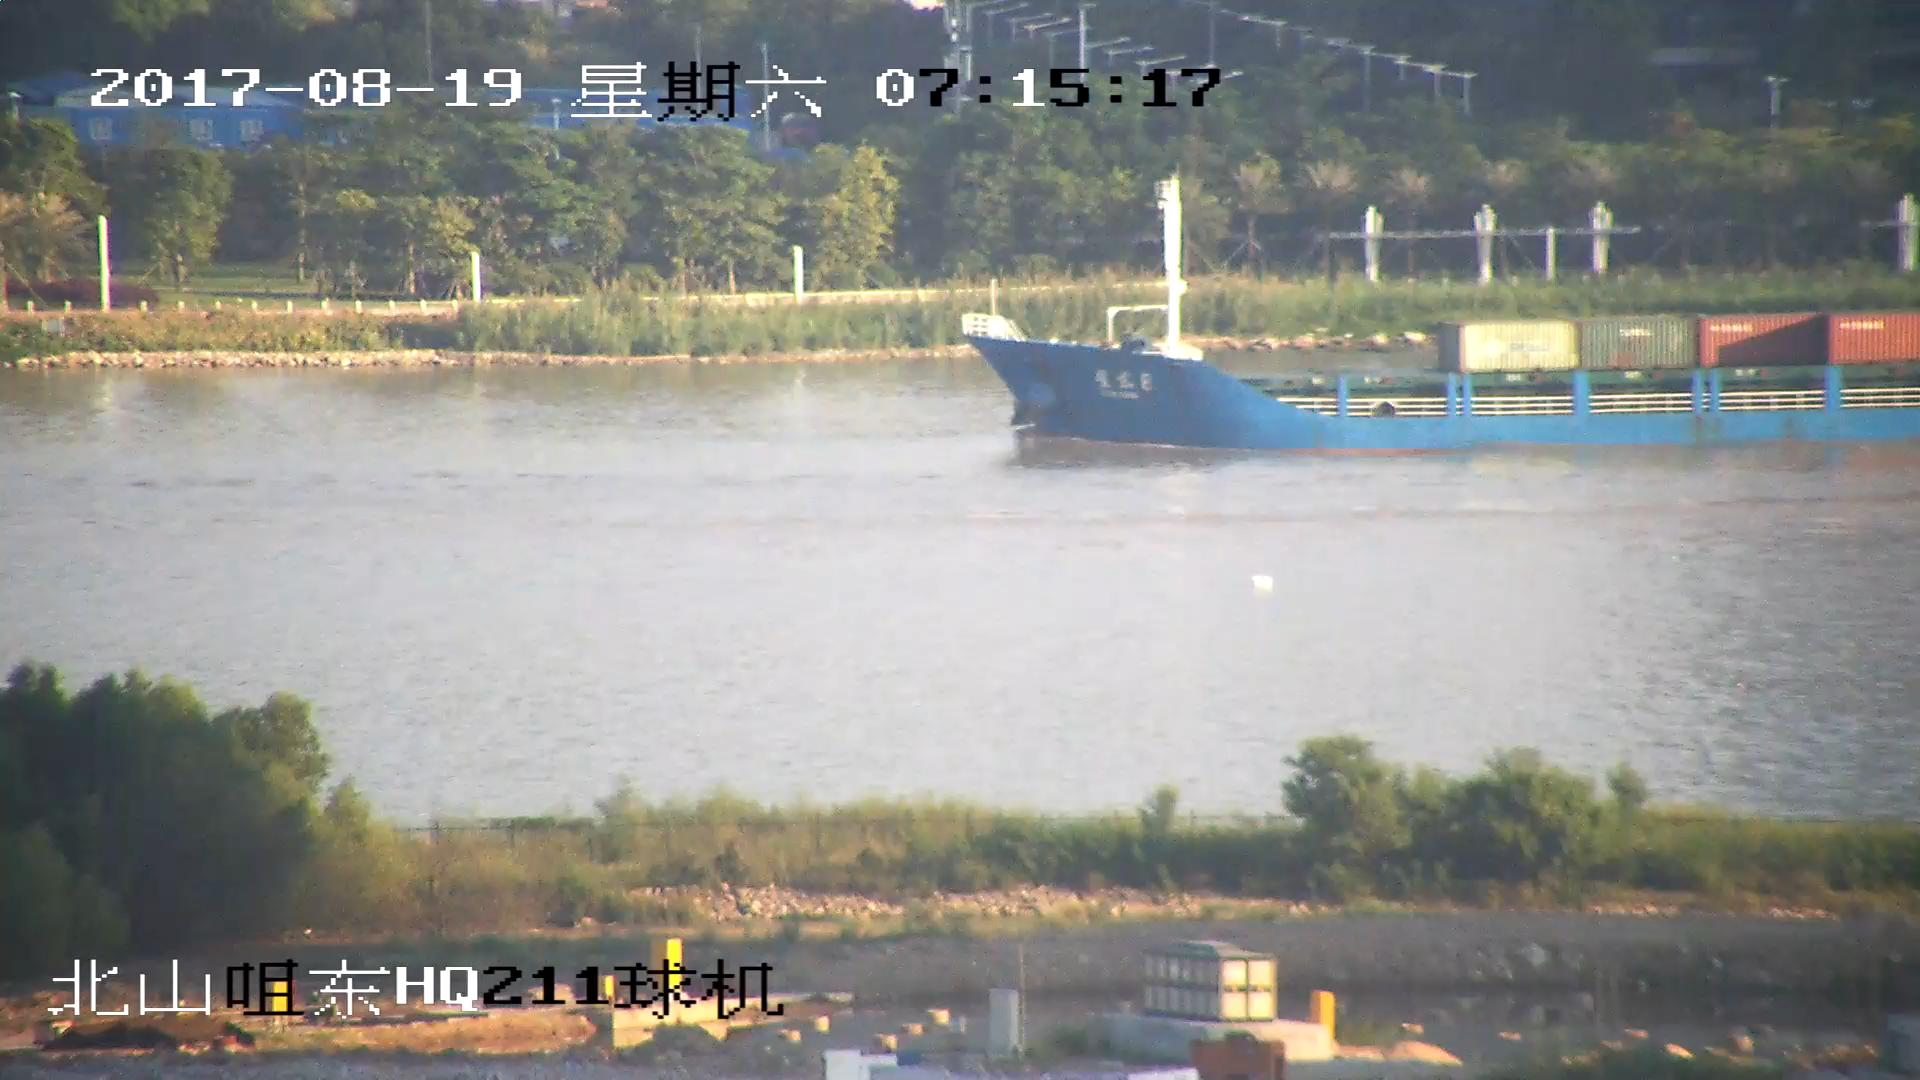general cargo ship: (962, 174, 1920, 445)
